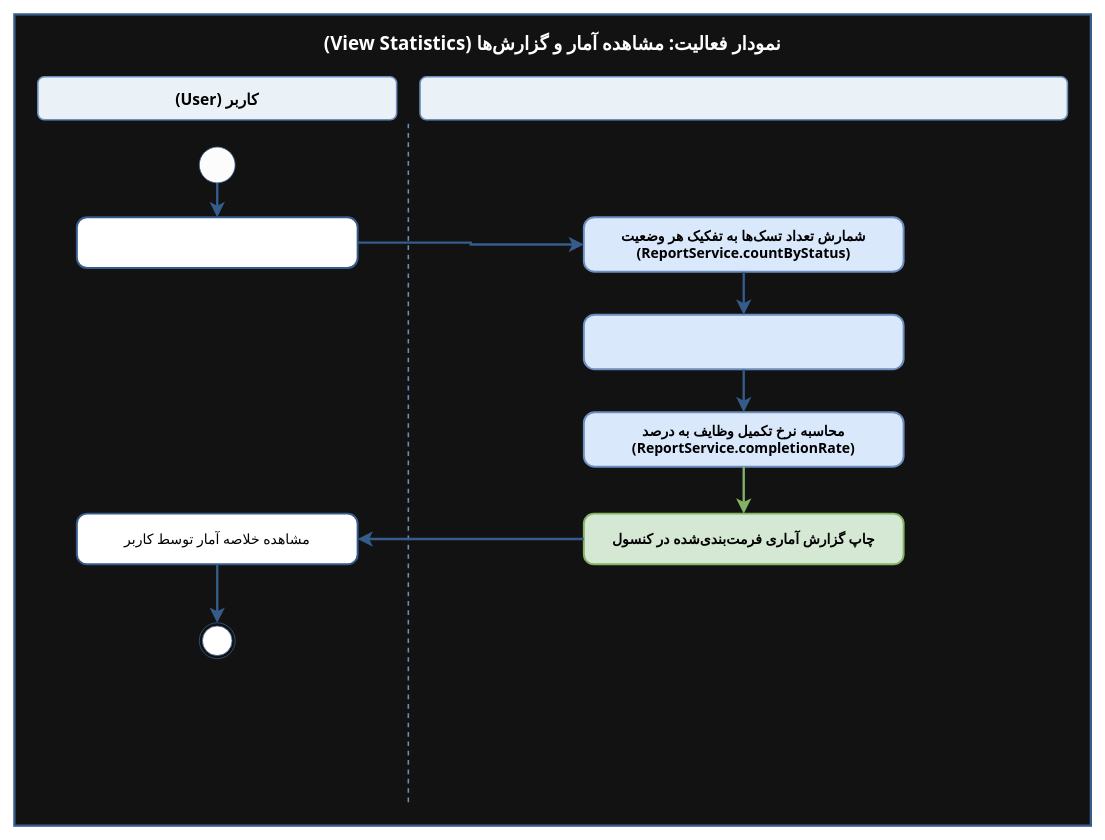
This 1105x840 diagram has some shape labels left out. The shapes that lost their labels are listed below. From the top down, each one's centre as x and y in pixels, then its label:
At point 743,98: "سامانه (ConsoleUI & ReportService)".
At point 217,242: "انتخاب گزینه «9) Statistics» از منوی اصلی".
At point 743,341: "شمارش تعداد تسک‌های عقب‌افتاده (ReportService.overdue)".
